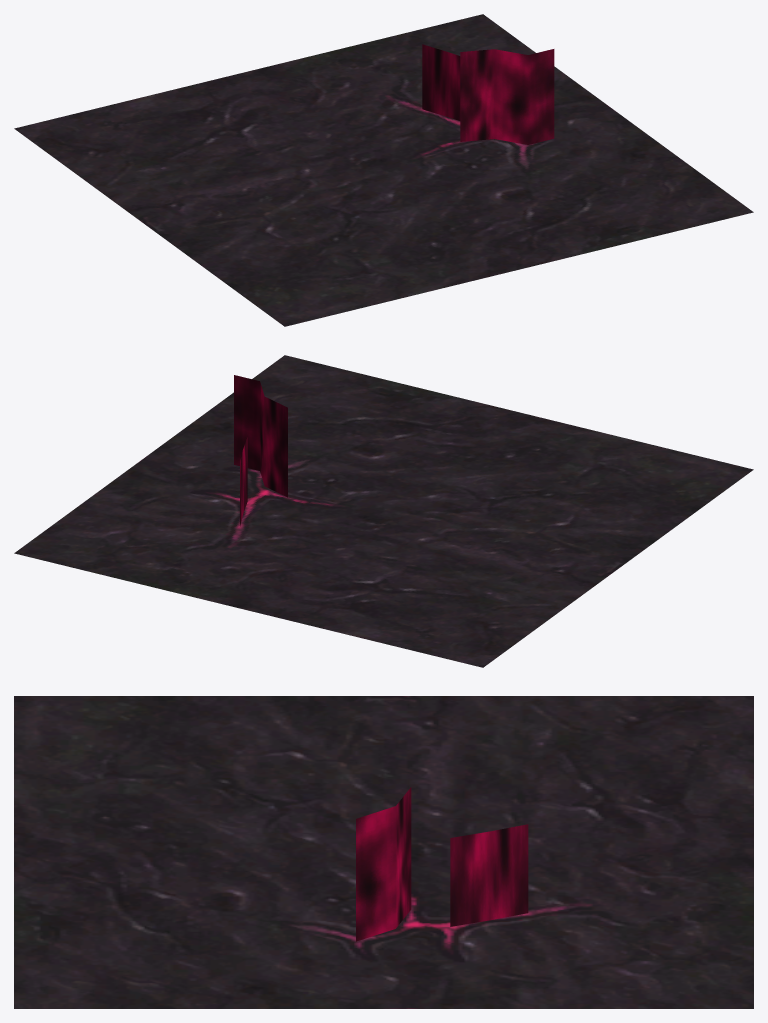
The model's file is cave_floor_blank_04.fbx.
3 renders of one model, top to bottom at view 1: azimuth 30°, elevation 25°; view 2: azimuth 150°, elevation 25°; view 3: azimuth 270°, elevation 25°, orthographic. The views are drawn at different scales.
Visible parts, largest first — view 1: cave_floor_blank_04-0; view 2: cave_floor_blank_04-0; view 3: cave_floor_blank_04-0.
Boxes of the visible parts, <box> form: cave_floor_blank_04-0: <box>14,14,753,326</box>; cave_floor_blank_04-0: <box>14,355,753,667</box>; cave_floor_blank_04-0: <box>14,696,753,1008</box>.
Size of the model in its own units: 4 by 0.7341 by 4.
